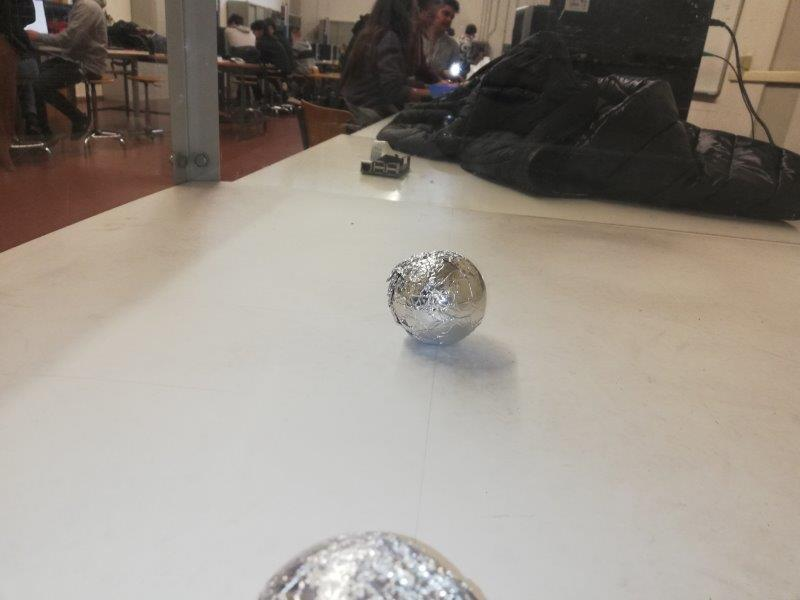bianca: (249, 532, 491, 600), (386, 248, 487, 347)
